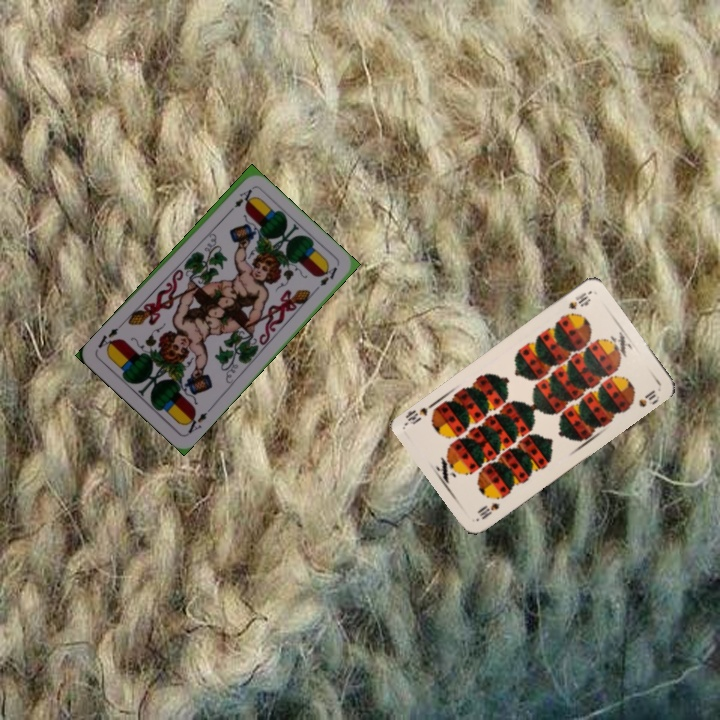EA: (223, 185, 255, 217), (180, 408, 210, 437)
S10: (564, 288, 593, 312), (474, 498, 502, 522)
